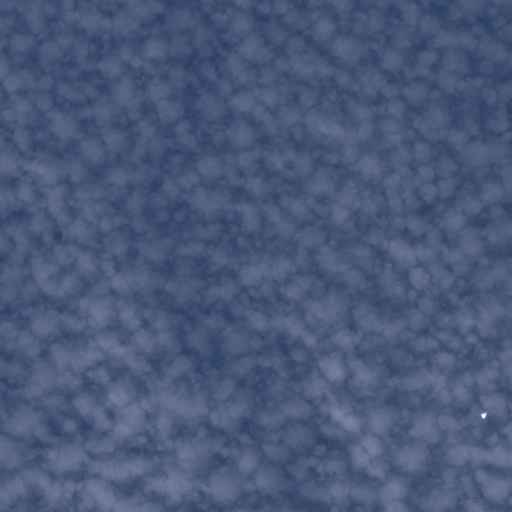Iceberg: (481, 412, 486, 417)
